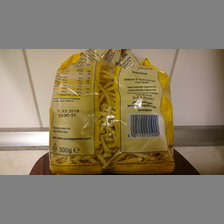pasta: (48, 49, 176, 173)
